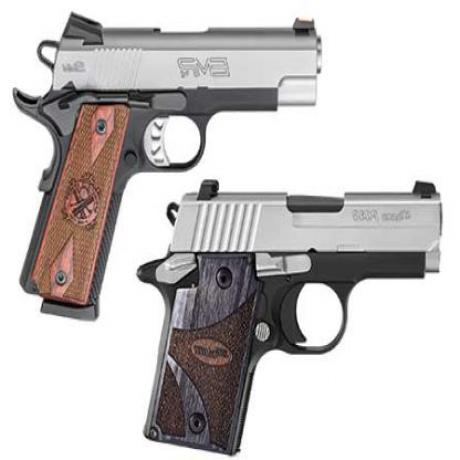weapon: (14, 8, 330, 322), (128, 166, 452, 460)
